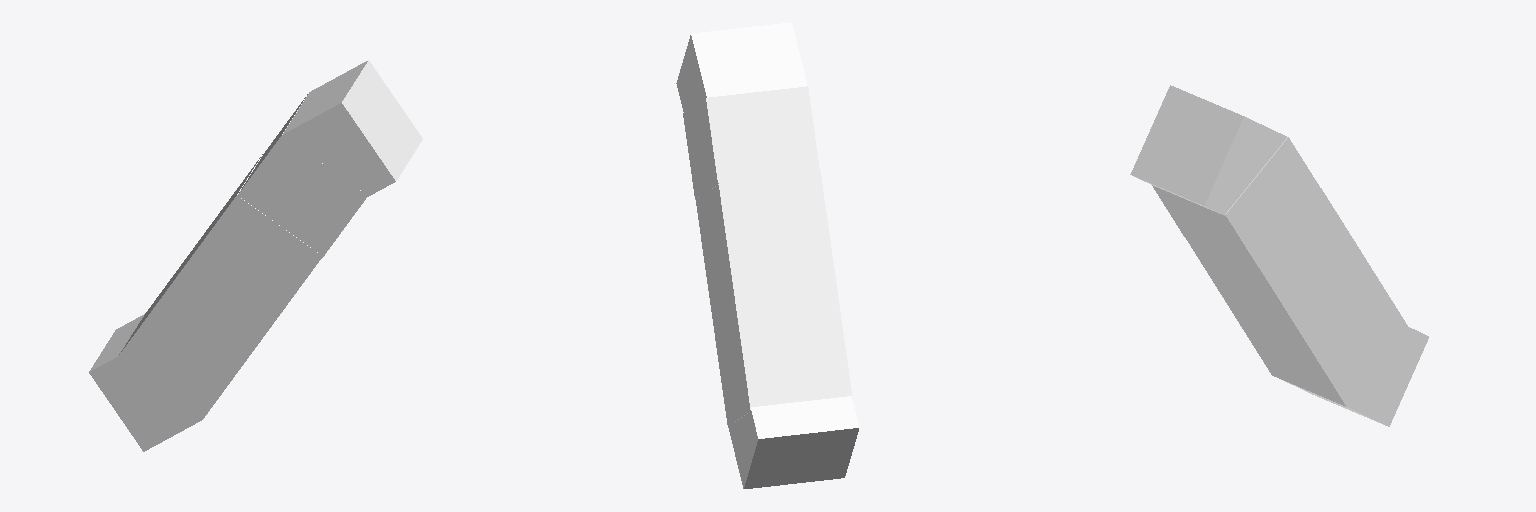
File: thick_diagonal_oak_branch_67_45_a.obj
3 views of the same model, side by side, from view 1: azimuth 30°, elevation 25°; view 2: azimuth 150°, elevation 25°; view 3: azimuth 270°, elevation 25° (orthographic).
Visible parts, largest first — view 1: halfbeam, halfbeam.000, halfbeam.002, halfbeam.001; view 2: halfbeam, halfbeam.002, halfbeam.001, halfbeam.000; view 3: halfbeam, halfbeam.000, halfbeam.002, halfbeam.001.
Boxes of the visible parts, box(x1,y1,x2,y2) form: halfbeam: box(116, 152, 322, 419); halfbeam.000: box(283, 60, 422, 196); halfbeam.002: box(237, 93, 367, 257); halfbeam.001: box(89, 314, 201, 451); halfbeam: box(696, 171, 852, 425); halfbeam.002: box(683, 86, 819, 199); halfbeam.001: box(728, 396, 859, 488); halfbeam.000: box(676, 22, 807, 111); halfbeam: box(1185, 188, 1409, 406); halfbeam.000: box(1130, 85, 1286, 215); halfbeam.002: box(1152, 137, 1321, 267); halfbeam.001: box(1283, 327, 1428, 426).
Bounding box in the file's own units: 1.06 × 1.46 × 1.06.